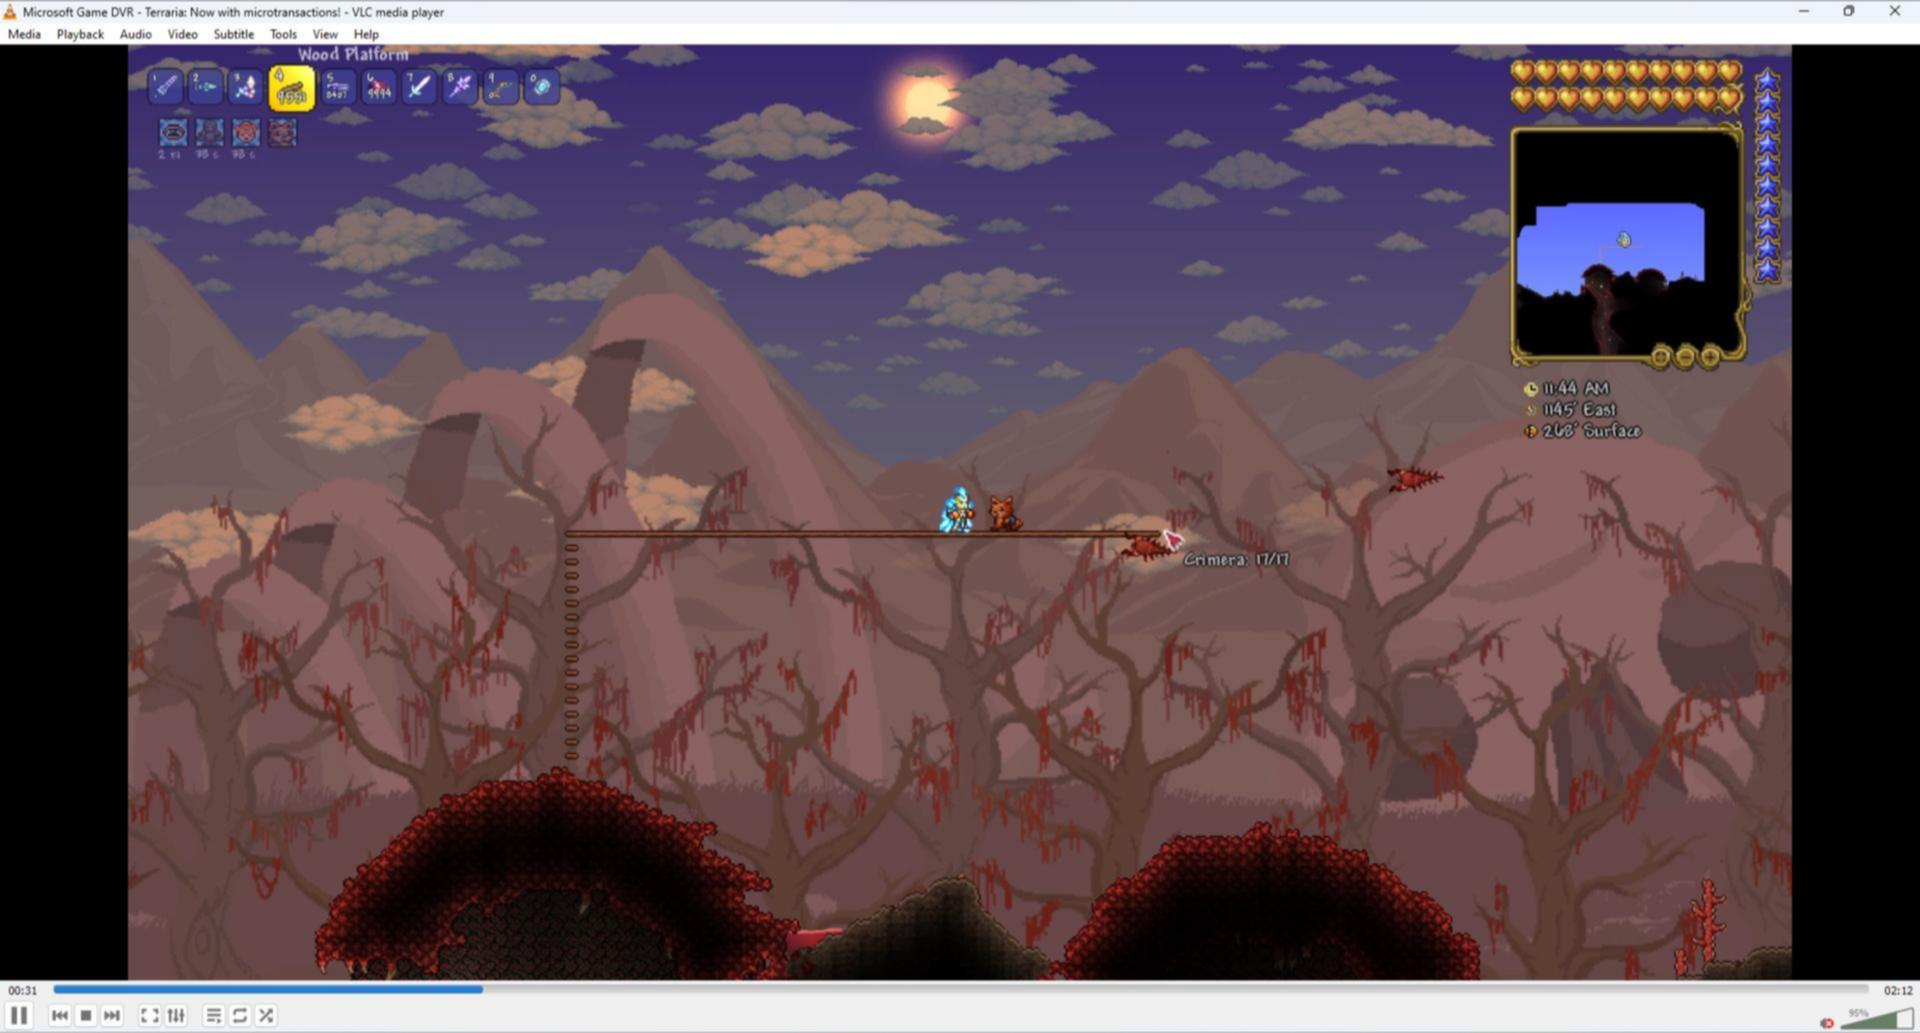crimera: (1385, 458, 1443, 497), (1115, 532, 1179, 566)
